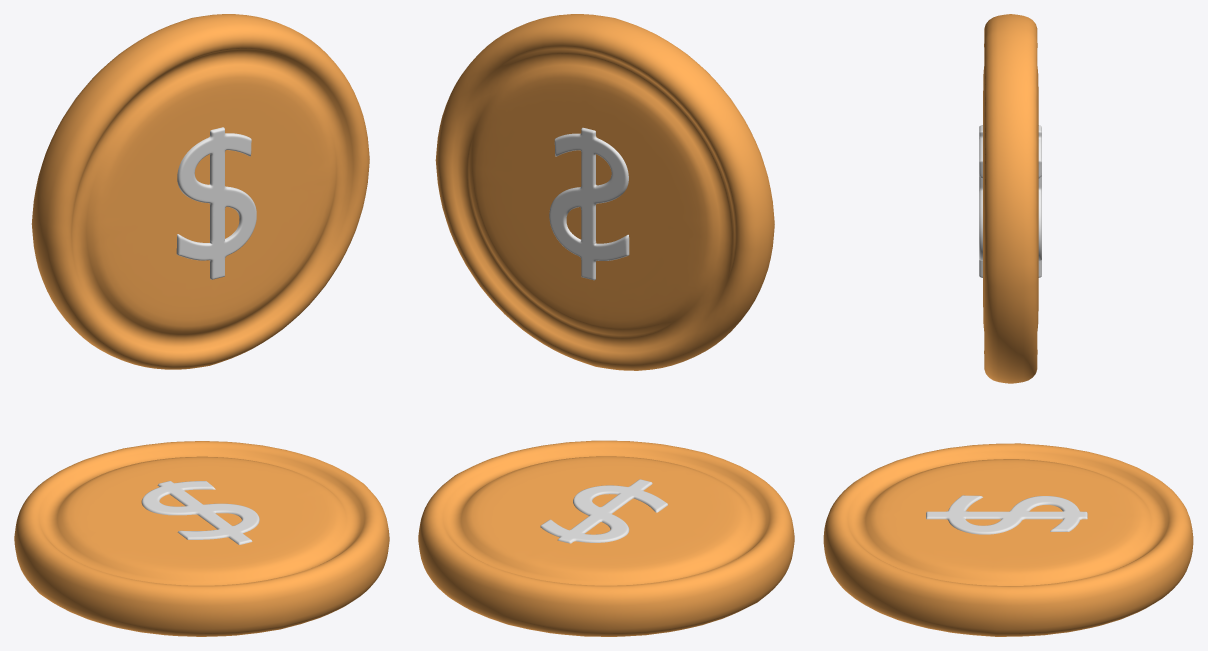
The model's file is coins-fun-loading-animated-3d-icon-1647478984364.glb.
3 views of the same model, side by side, from view 1: azimuth 30°, elevation 25°; view 2: azimuth 150°, elevation 25°; view 3: azimuth 270°, elevation 25° (orthographic).
Parts seen in each view (by area): view 1: Coin Base.001, Coin Base, Dollar Symbol.001, Dollar Symbol; view 2: Coin Base.001, Coin Base, Dollar Symbol.002, Dollar Symbol; view 3: Coin Base, Coin Base.001, Dollar Symbol, Dollar Symbol.001, Dollar Symbol.002.
Boxes of the visible parts, x1,y1,x2,y2 form: Coin Base.001: [31, 14, 369, 369]; Coin Base: [14, 441, 389, 636]; Dollar Symbol.001: [176, 127, 256, 279]; Dollar Symbol: [141, 481, 259, 544]; Coin Base.001: [435, 14, 774, 370]; Coin Base: [418, 440, 794, 636]; Dollar Symbol.002: [549, 127, 629, 280]; Dollar Symbol: [540, 479, 667, 543]; Coin Base: [823, 443, 1193, 636]; Coin Base.001: [983, 14, 1038, 383]; Dollar Symbol: [926, 495, 1087, 534]; Dollar Symbol.001: [979, 125, 982, 277]; Dollar Symbol.002: [1038, 125, 1041, 277].
Bounding box in the file's own units: 1.98 × 3.16 × 1.97.
